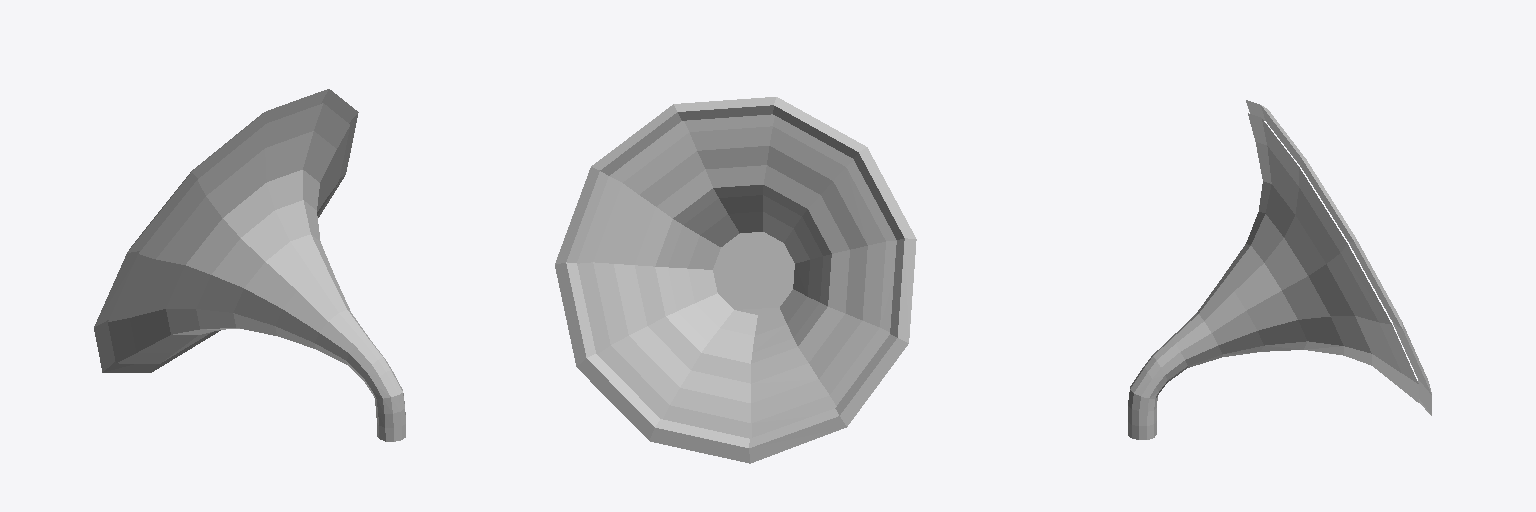
Rendered from Phonographe-CYLINDRE.obj.
3 views of the same model, side by side, from view 1: azimuth 30°, elevation 25°; view 2: azimuth 150°, elevation 25°; view 3: azimuth 270°, elevation 25° (orthographic).
Parts seen in each view (by area): view 1: Cylinder_BASE, Cylinder_TOP; view 2: Cylinder_BASE, Cylinder_TOP; view 3: Cylinder_BASE, Cylinder_TOP.
Boxes of the visible parts, <box> form: Cylinder_BASE: <box>108,103,405,441</box>; Cylinder_TOP: <box>94,89,358,372</box>; Cylinder_BASE: <box>577,114,896,438</box>; Cylinder_TOP: <box>555,97,916,463</box>; Cylinder_BASE: <box>1128,113,1418,439</box>; Cylinder_TOP: <box>1246,100,1431,415</box>.
Size of the model in its own units: 21.4 by 20.47 by 18.61.